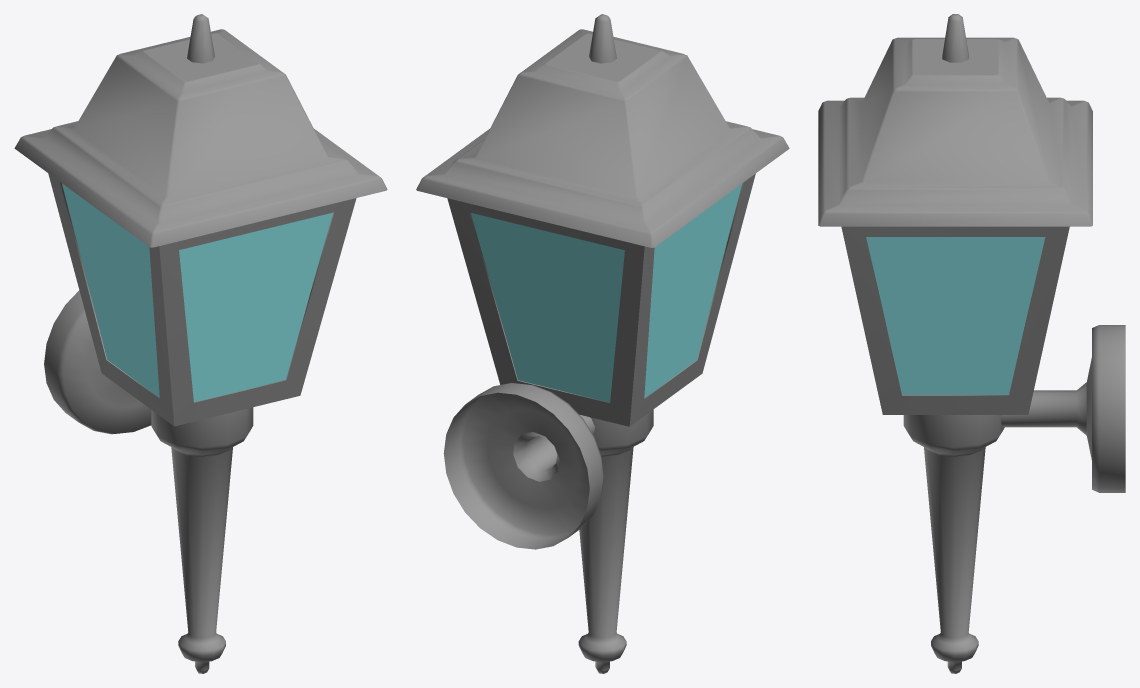
Rendered from Lamp_exterior_wall.FBX.
3 renders of one model, left to right at view 1: azimuth 30°, elevation 25°; view 2: azimuth 150°, elevation 25°; view 3: azimuth 270°, elevation 25°, orthographic.
Parts seen in each view (by area): view 1: Lamp_exterior_wall, Glass; view 2: Lamp_exterior_wall, Glass; view 3: Lamp_exterior_wall, Glass.
Boxes of the visible parts, bbox=[...] form: Lamp_exterior_wall: bbox=[14, 14, 387, 673]; Glass: bbox=[62, 183, 332, 402]; Lamp_exterior_wall: bbox=[416, 14, 789, 673]; Glass: bbox=[471, 184, 741, 402]; Lamp_exterior_wall: bbox=[818, 14, 1125, 673]; Glass: bbox=[866, 237, 1044, 394].
Bounding box in the file's own units: 17.37 × 45.77 × 19.44.
